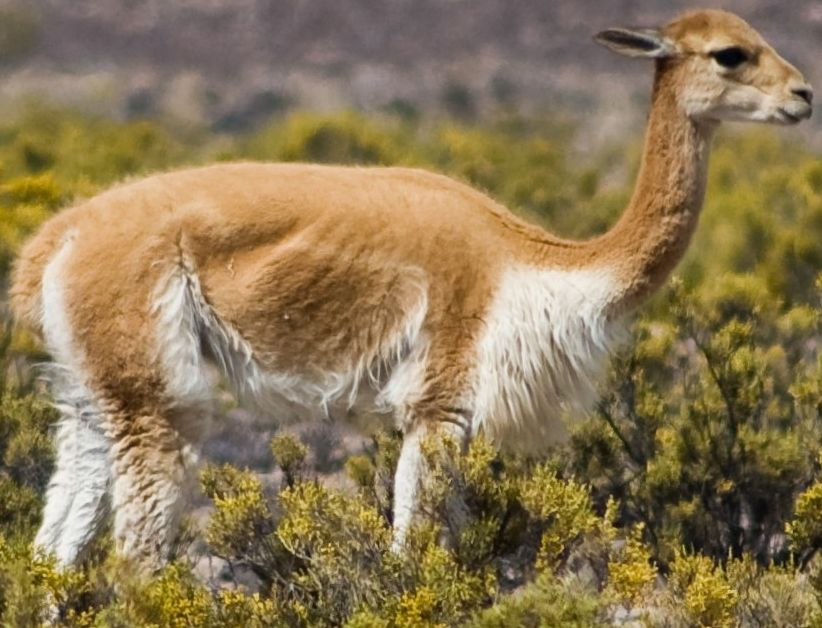eye: (700, 38, 759, 74)
mouth: (768, 94, 818, 122)
